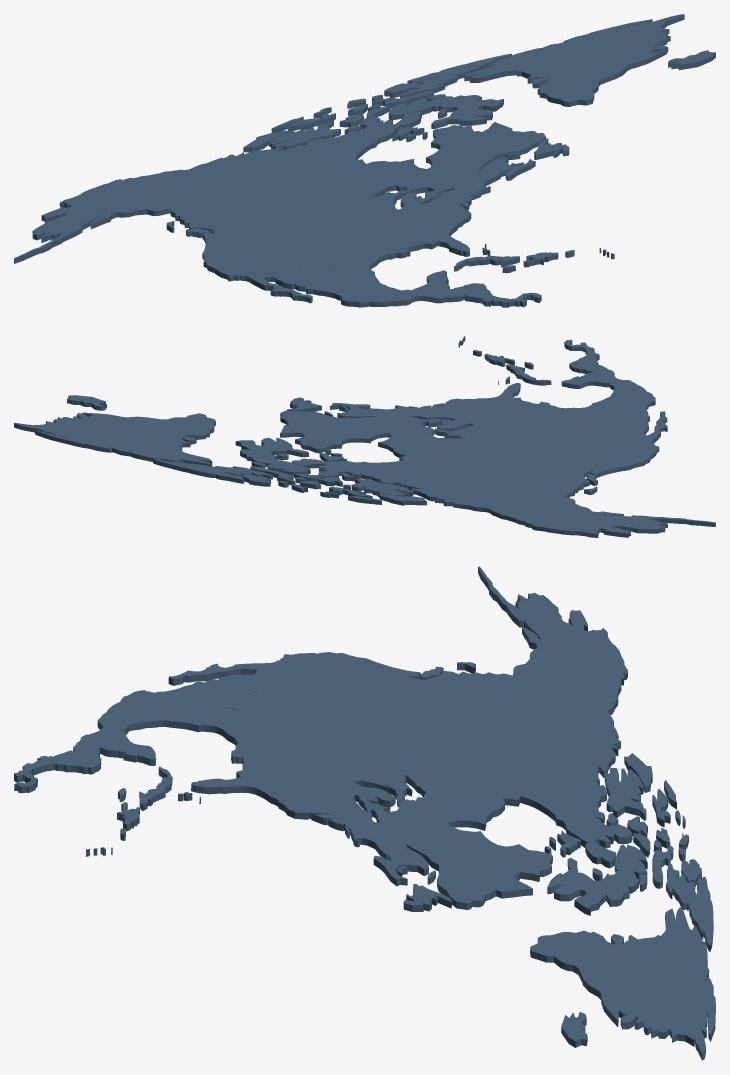
Rendered from NorthAmerica2.fbx.
3 renders of one model, top to bottom at view 1: azimuth 30°, elevation 25°; view 2: azimuth 150°, elevation 25°; view 3: azimuth 270°, elevation 25°, orthographic. The views are drawn at different scales.
Parts seen in each view (by area): view 1: Plane.746, Plane.505, Plane.701, Plane.379; view 2: Plane.746, Plane.505, Plane.701, Plane.379; view 3: Plane.746, Plane.505, Plane.701, Plane.379.
Part boxes in pixels (<box>): Plane.746: <box>144,53,569,237</box>; Plane.505: <box>14,167,500,283</box>; Plane.701: <box>431,14,715,307</box>; Plane.379: <box>251,266,448,307</box>; Plane.746: <box>153,397,597,516</box>; Plane.505: <box>361,383,715,537</box>; Plane.701: <box>14,336,614,466</box>; Plane.379: <box>561,373,667,442</box>; Plane.746: <box>358,662,713,951</box>; Plane.505: <box>191,566,627,861</box>; Plane.701: <box>14,734,715,1060</box>; Plane.379: <box>87,663,266,765</box>.
Bounding box in the file's own units: 2470 × 38.72 × 1513.
